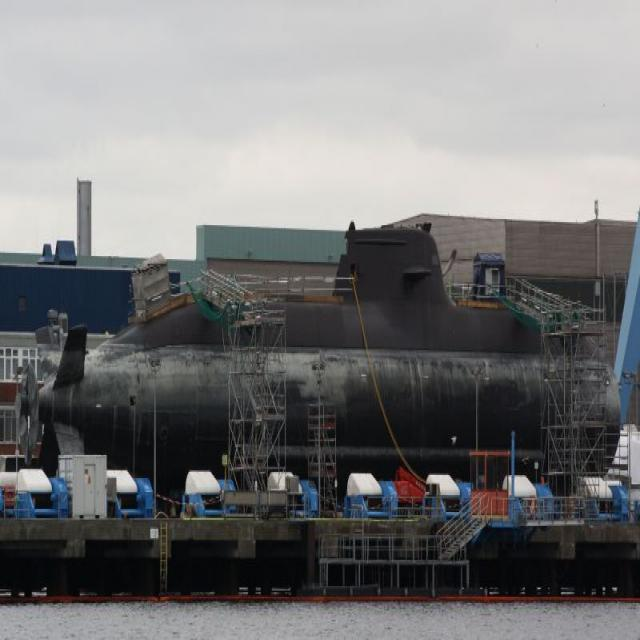submarine: (15, 230, 622, 472)
